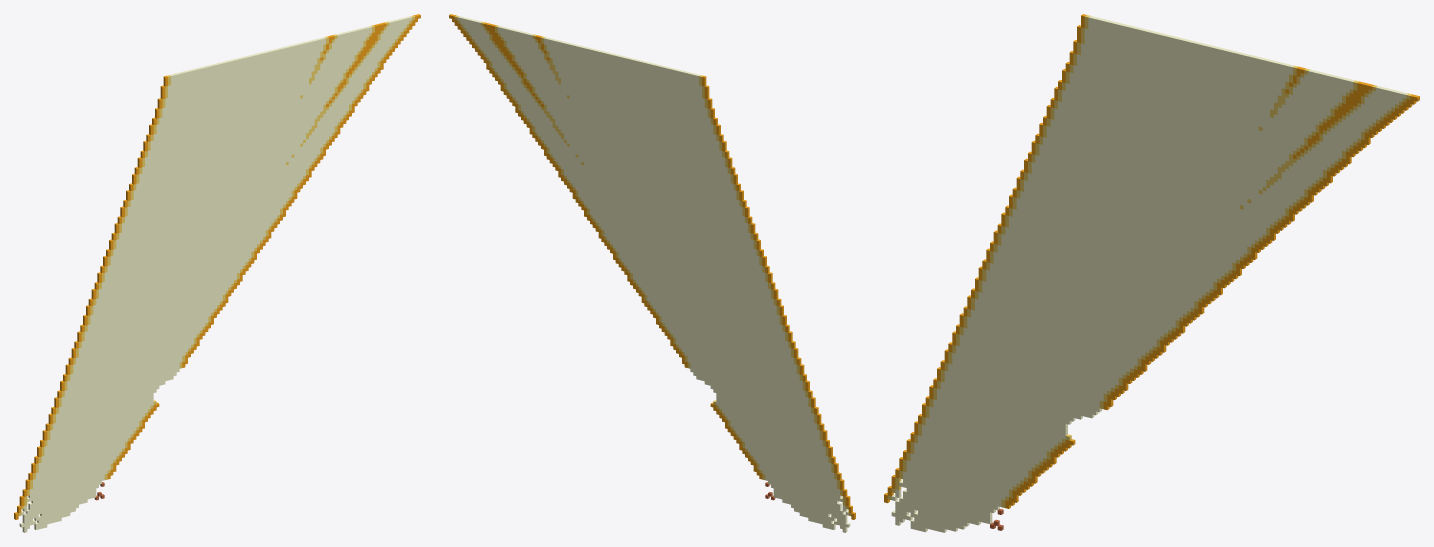
File: Fight_713_2_04_fx.obj
The picture shows the model from 3 angles, left to right: view 1: azimuth 30°, elevation 25°; view 2: azimuth 150°, elevation 25°; view 3: azimuth 330°, elevation 25°; orthographic projection. The views are drawn at different scales.
Size of the model in its own units: 14.1 by 14 by 0.1.
